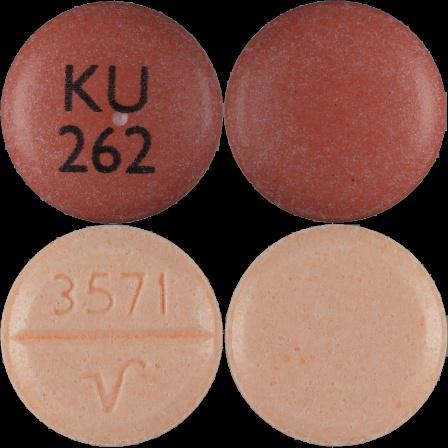66336-127: (0, 0, 224, 224)
